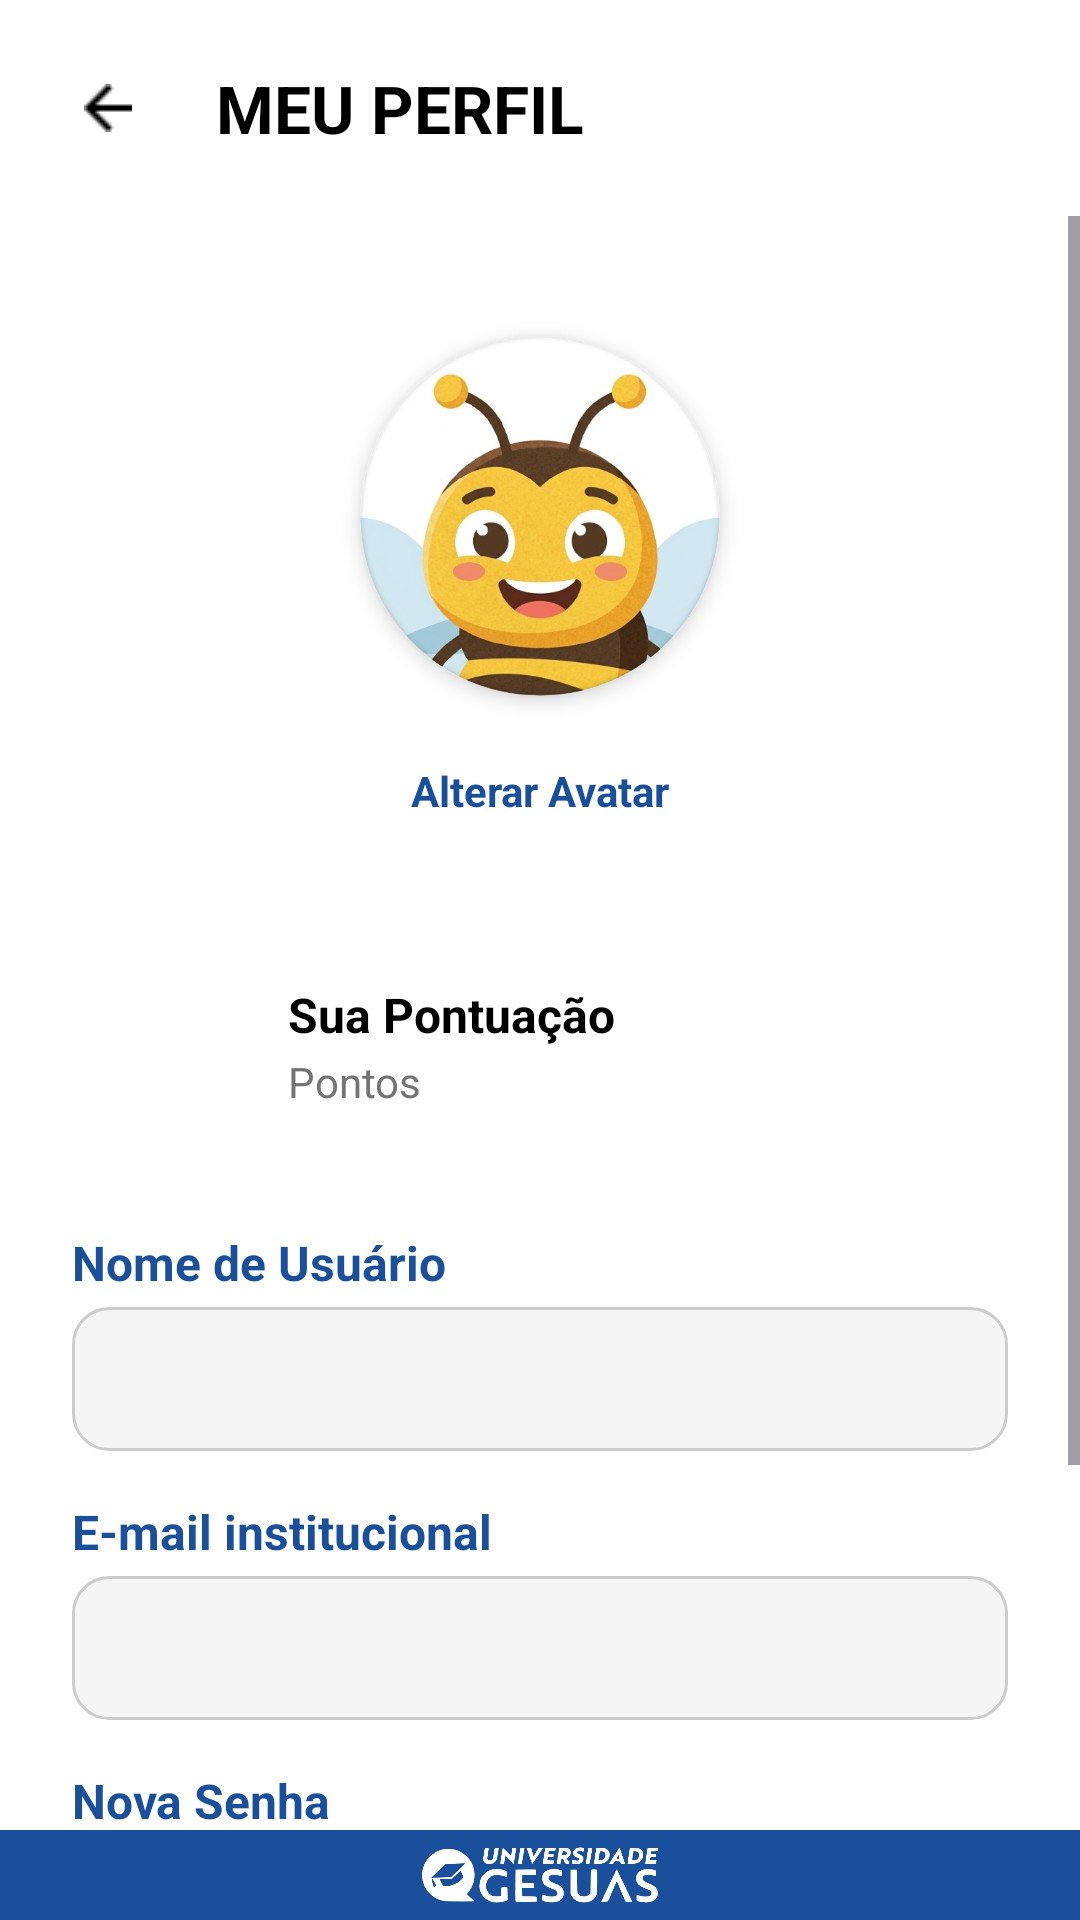

Named icons in this screenshot (1080*1920) and their bounding boxes, (x1, y1, x2, y2):
back arrow: (84, 84, 132, 132)
perfil beea: (360, 338, 720, 696)
